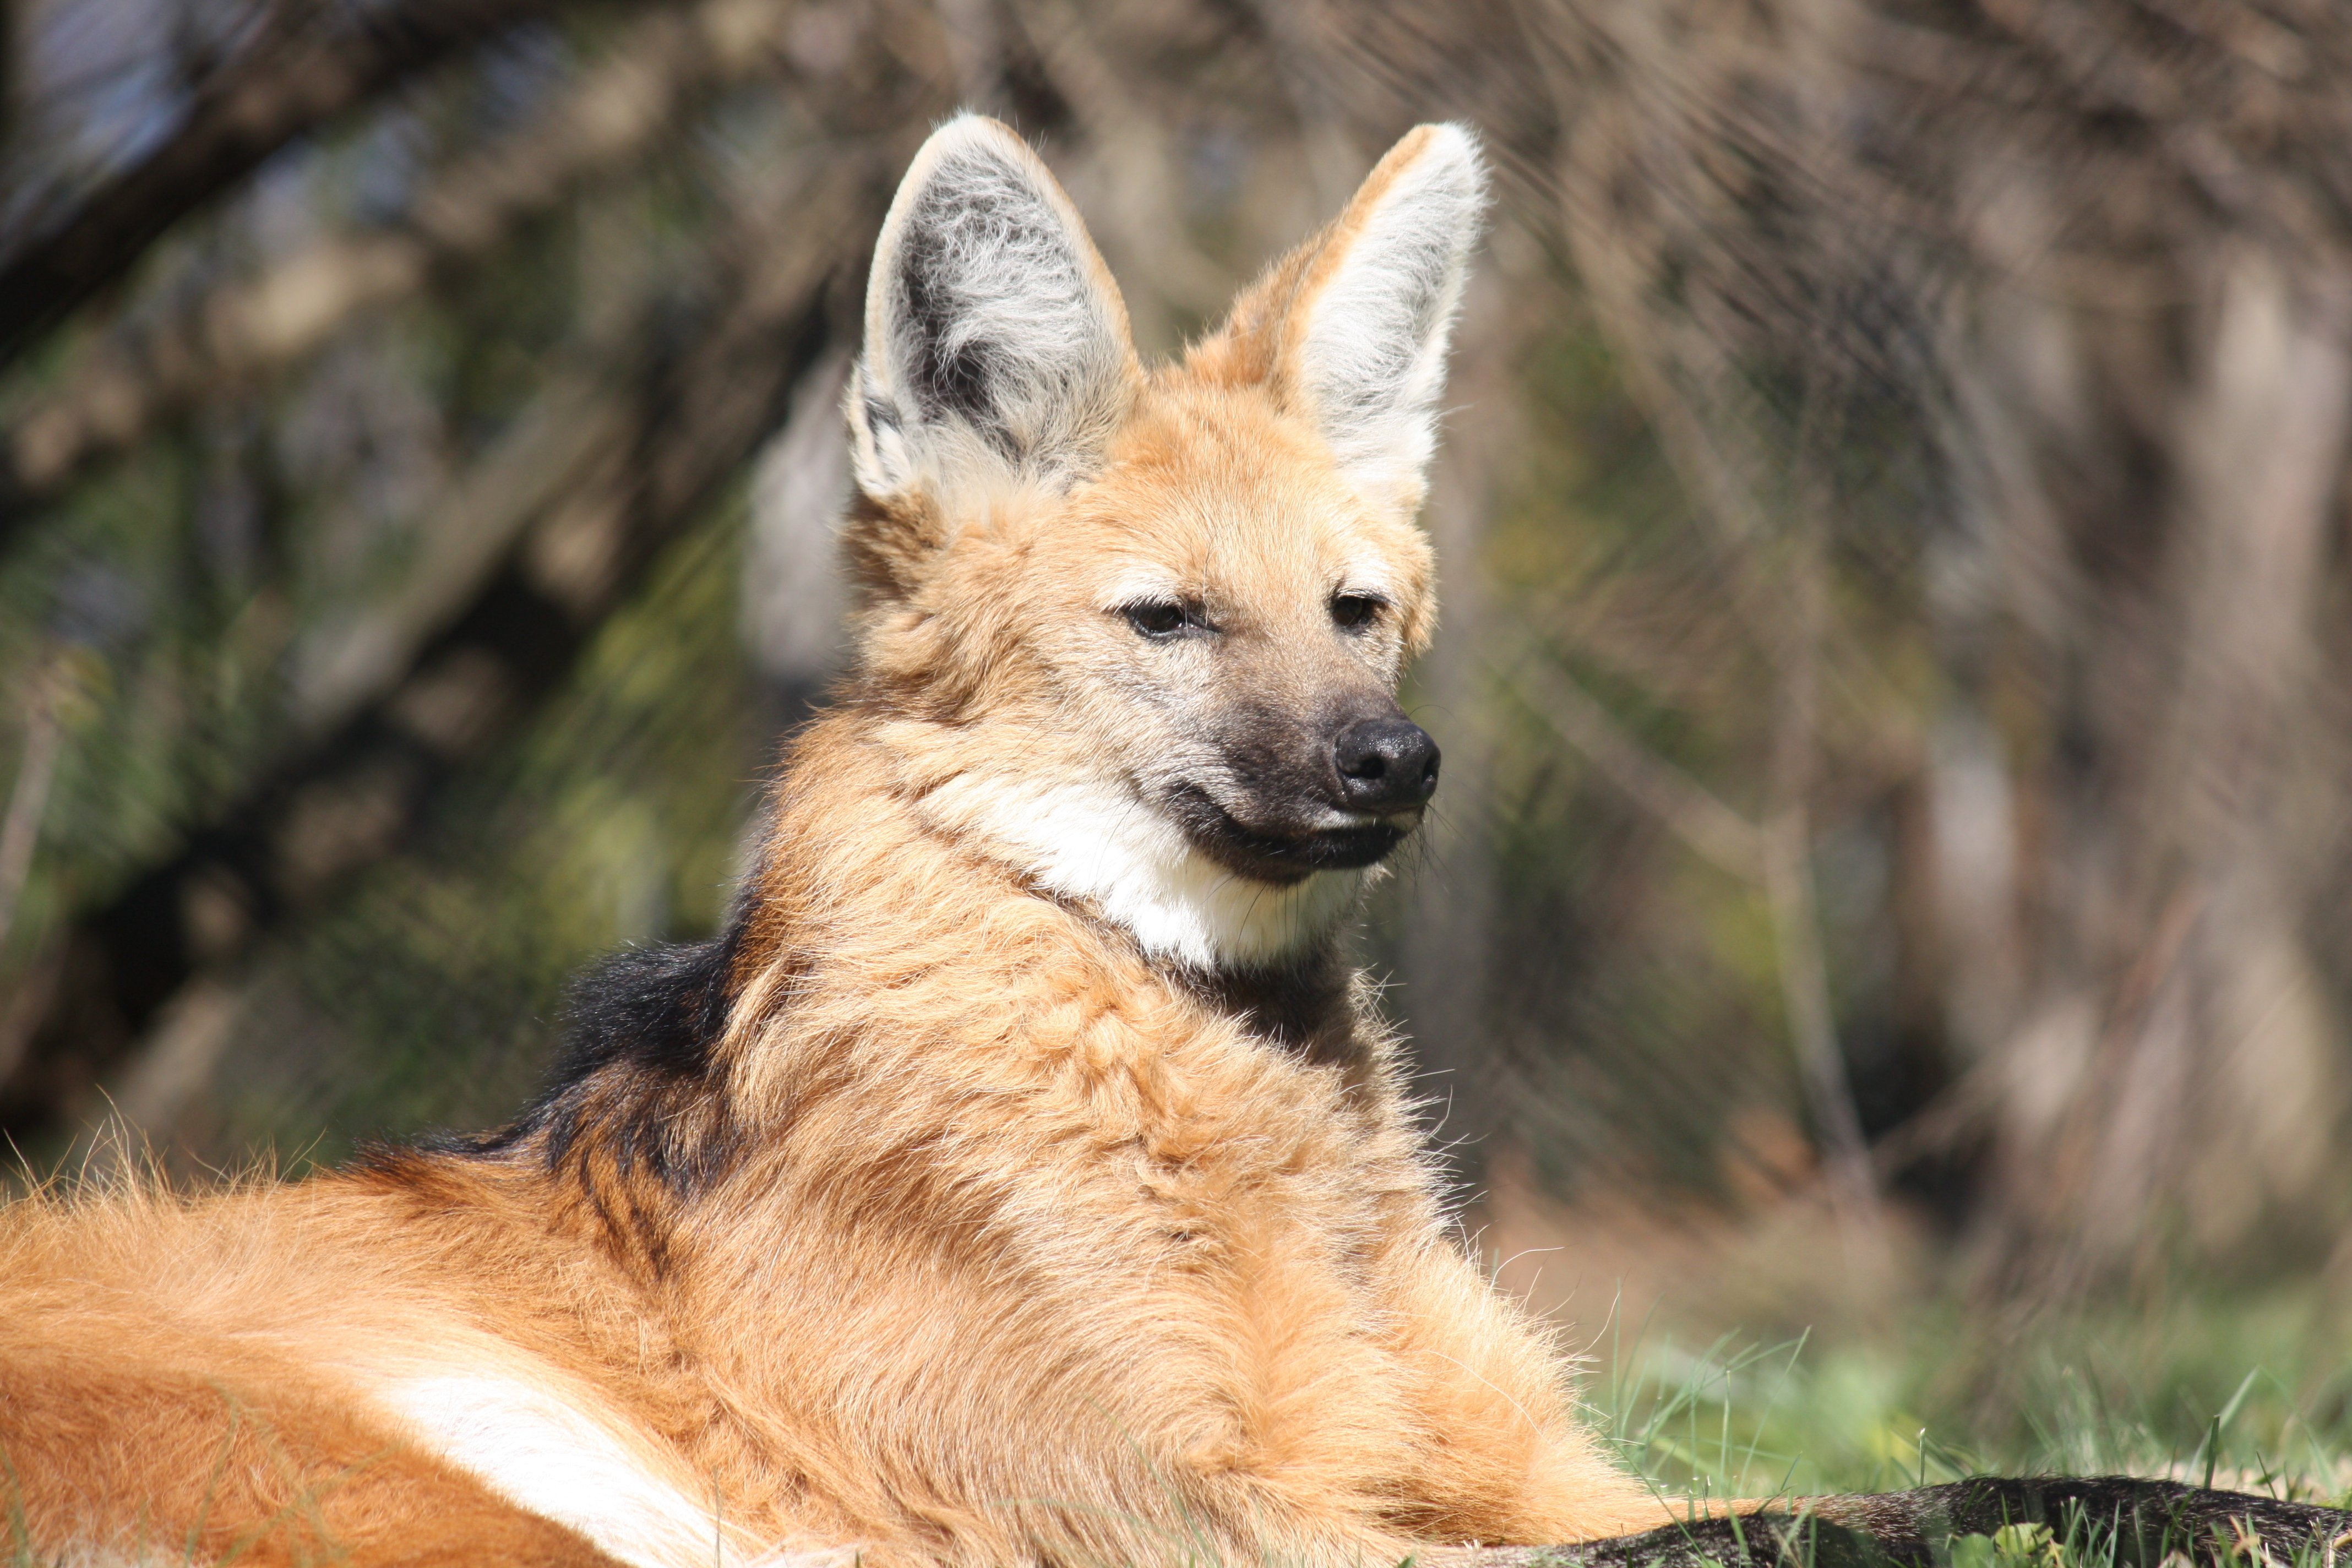LoboGuara: (93, 105, 1594, 1487)
